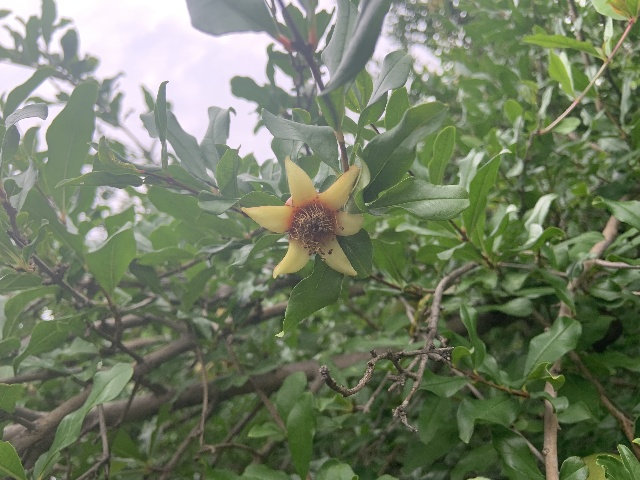early-fruit: (241, 156, 365, 278)
